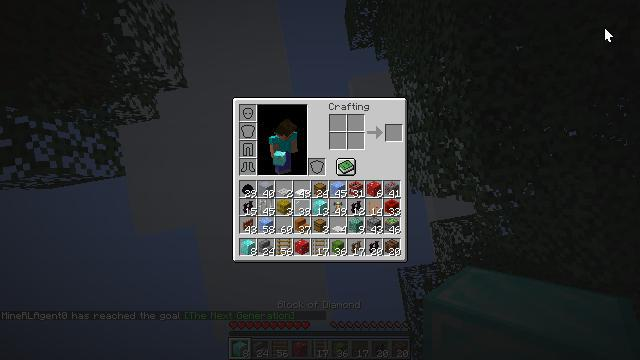cursor: (604, 27, 614, 43)
